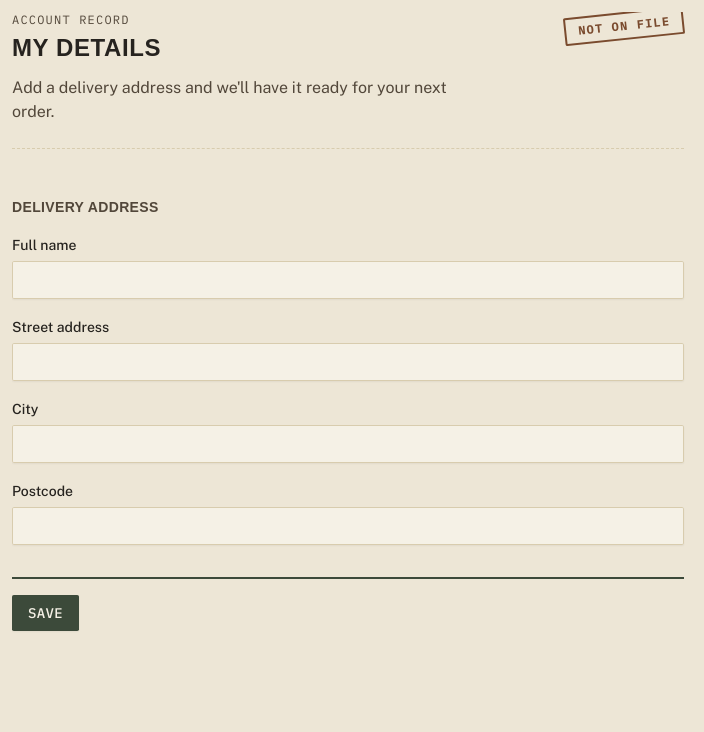
Test: MyDetailsForm › shows validation errors when submitting an empty form
What coordinates should you click on to do the following:
click the button "Save"
I would click on:
 (46, 613)
Its box is [12,595,79,631].
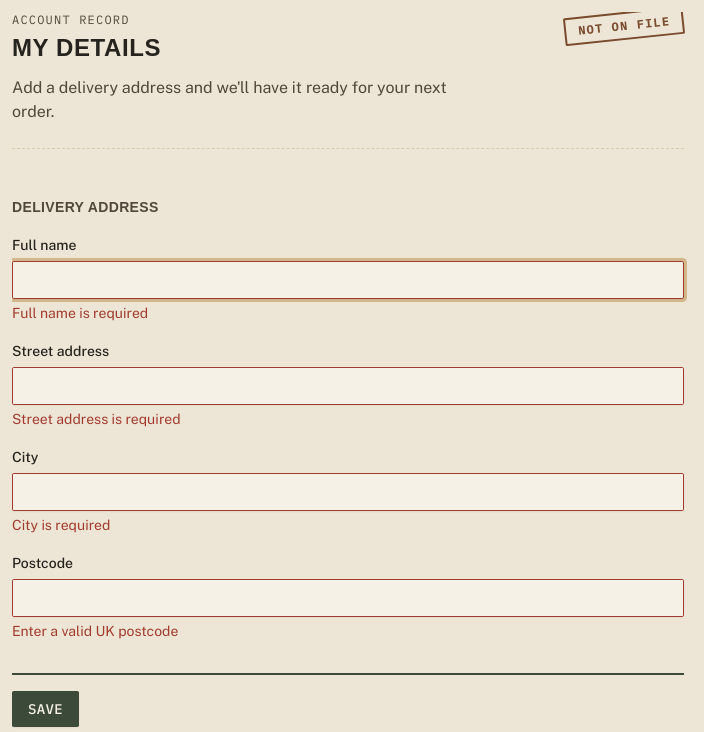
Result: the text "Full name is required" is shown at [12,305,148,321]
Result: the text "Street address is required" is shown at [12,411,180,427]
Result: the text "City is required" is shown at [12,517,110,533]
